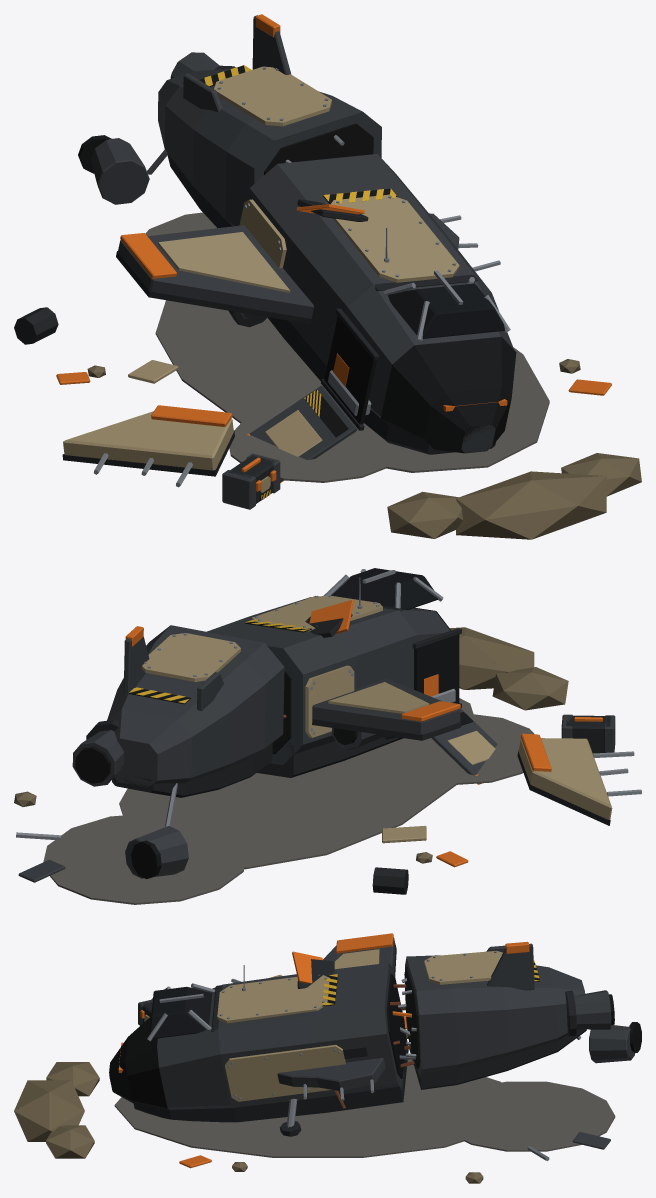
File: courier_wreck.fbx
3 views of the same model, one above another, from view 1: azimuth 30°, elevation 25°; view 2: azimuth 150°, elevation 25°; view 3: azimuth 270°, elevation 25° (orthographic). The views are drawn at different scales.
Visible parts, largest first — view 1: Hull, Ground, Debris, DataCase; view 2: Hull, Ground, Debris, DataCase; view 3: Hull, Ground, Debris.
Part boxes in pixels (x1=…): Hull: x1=62, y1=14, x2=516, y2=487; Ground: x1=87, y1=212, x2=641, y2=539; Debris: x1=14, y1=307, x2=611, y2=395; DataCase: x1=222, y1=453, x2=280, y2=509; Hull: x1=72, y1=568, x2=641, y2=878; Ground: x1=14, y1=627, x2=568, y2=904; Debris: x1=16, y1=825, x2=468, y2=894; DataCase: x1=561, y1=714, x2=615, y2=753; Hull: x1=109, y1=933, x2=641, y2=1136; Ground: x1=14, y1=1034, x2=615, y2=1183; Debris: x1=179, y1=1017, x2=610, y2=1168.
Bounding box in the file's own units: 17.35 × 8.64 × 24.08.
Materials: 4 (4 with a texture image).
